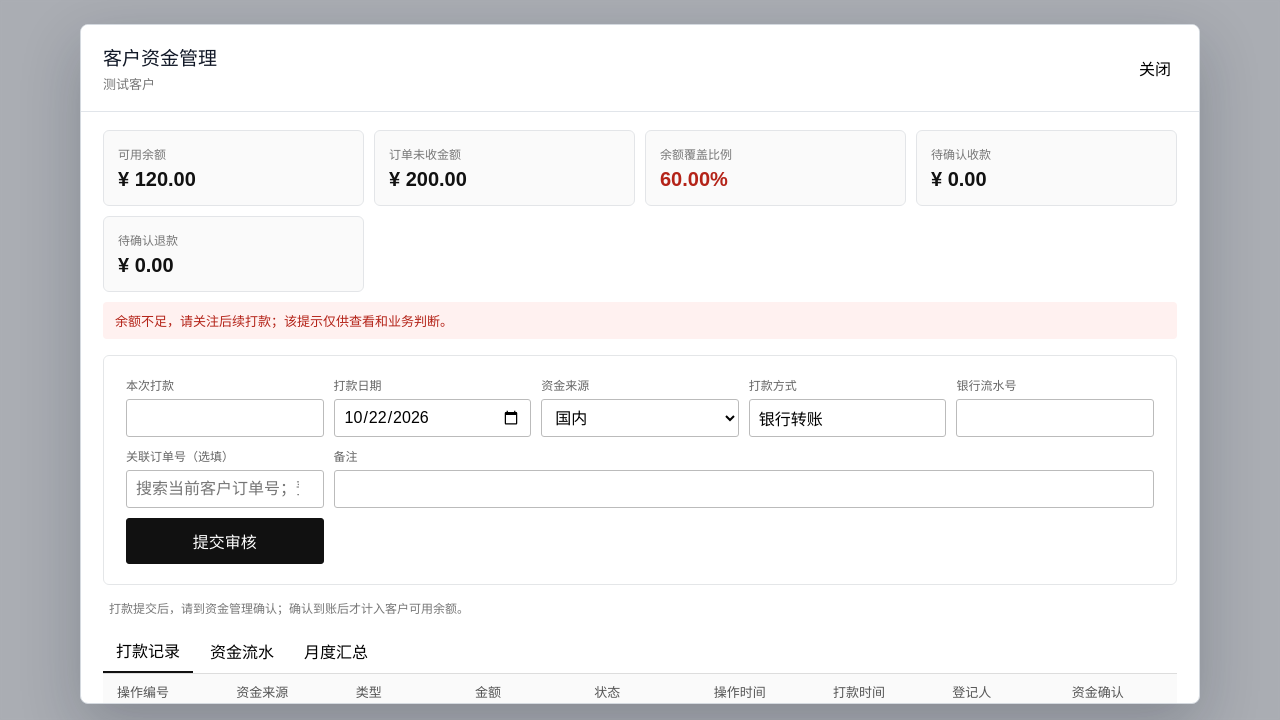
Test case: labels the linked document and displays operation time to seconds
Click the button "资金流水" at (242, 651), box [197,629,287,673]
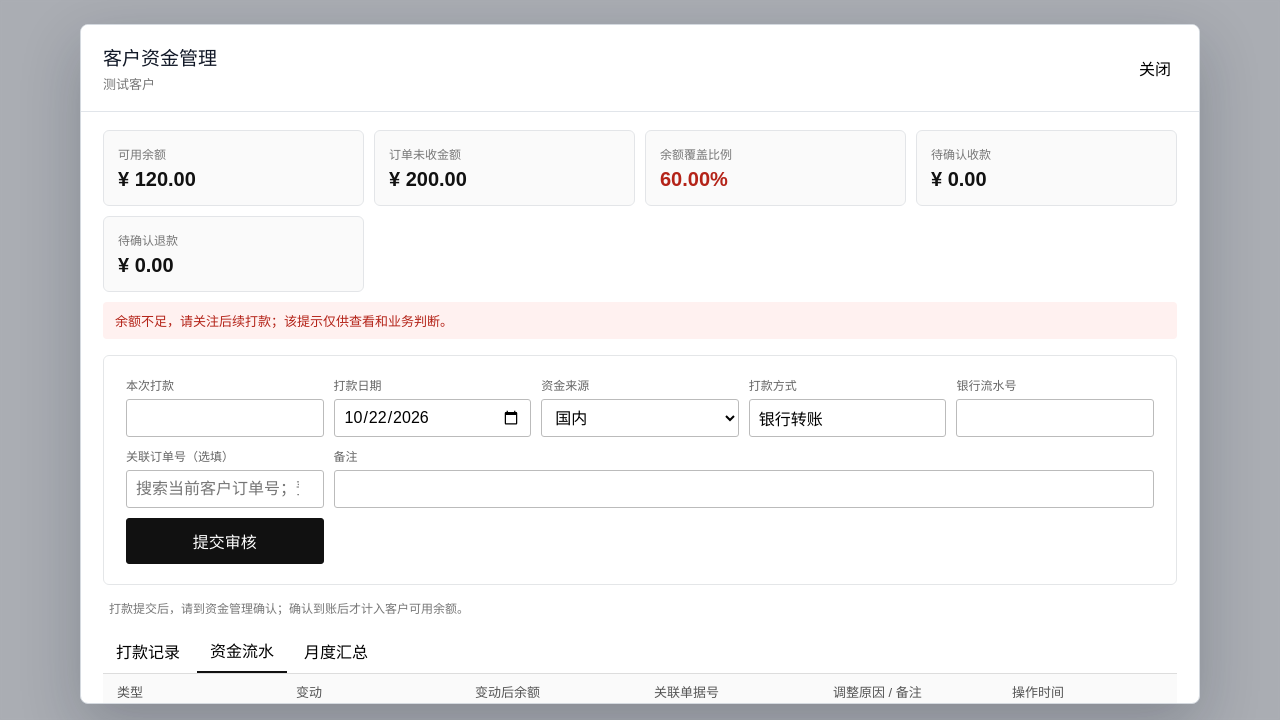
Expected: the text "关联单据号" is shown, [640,674,819,703]
